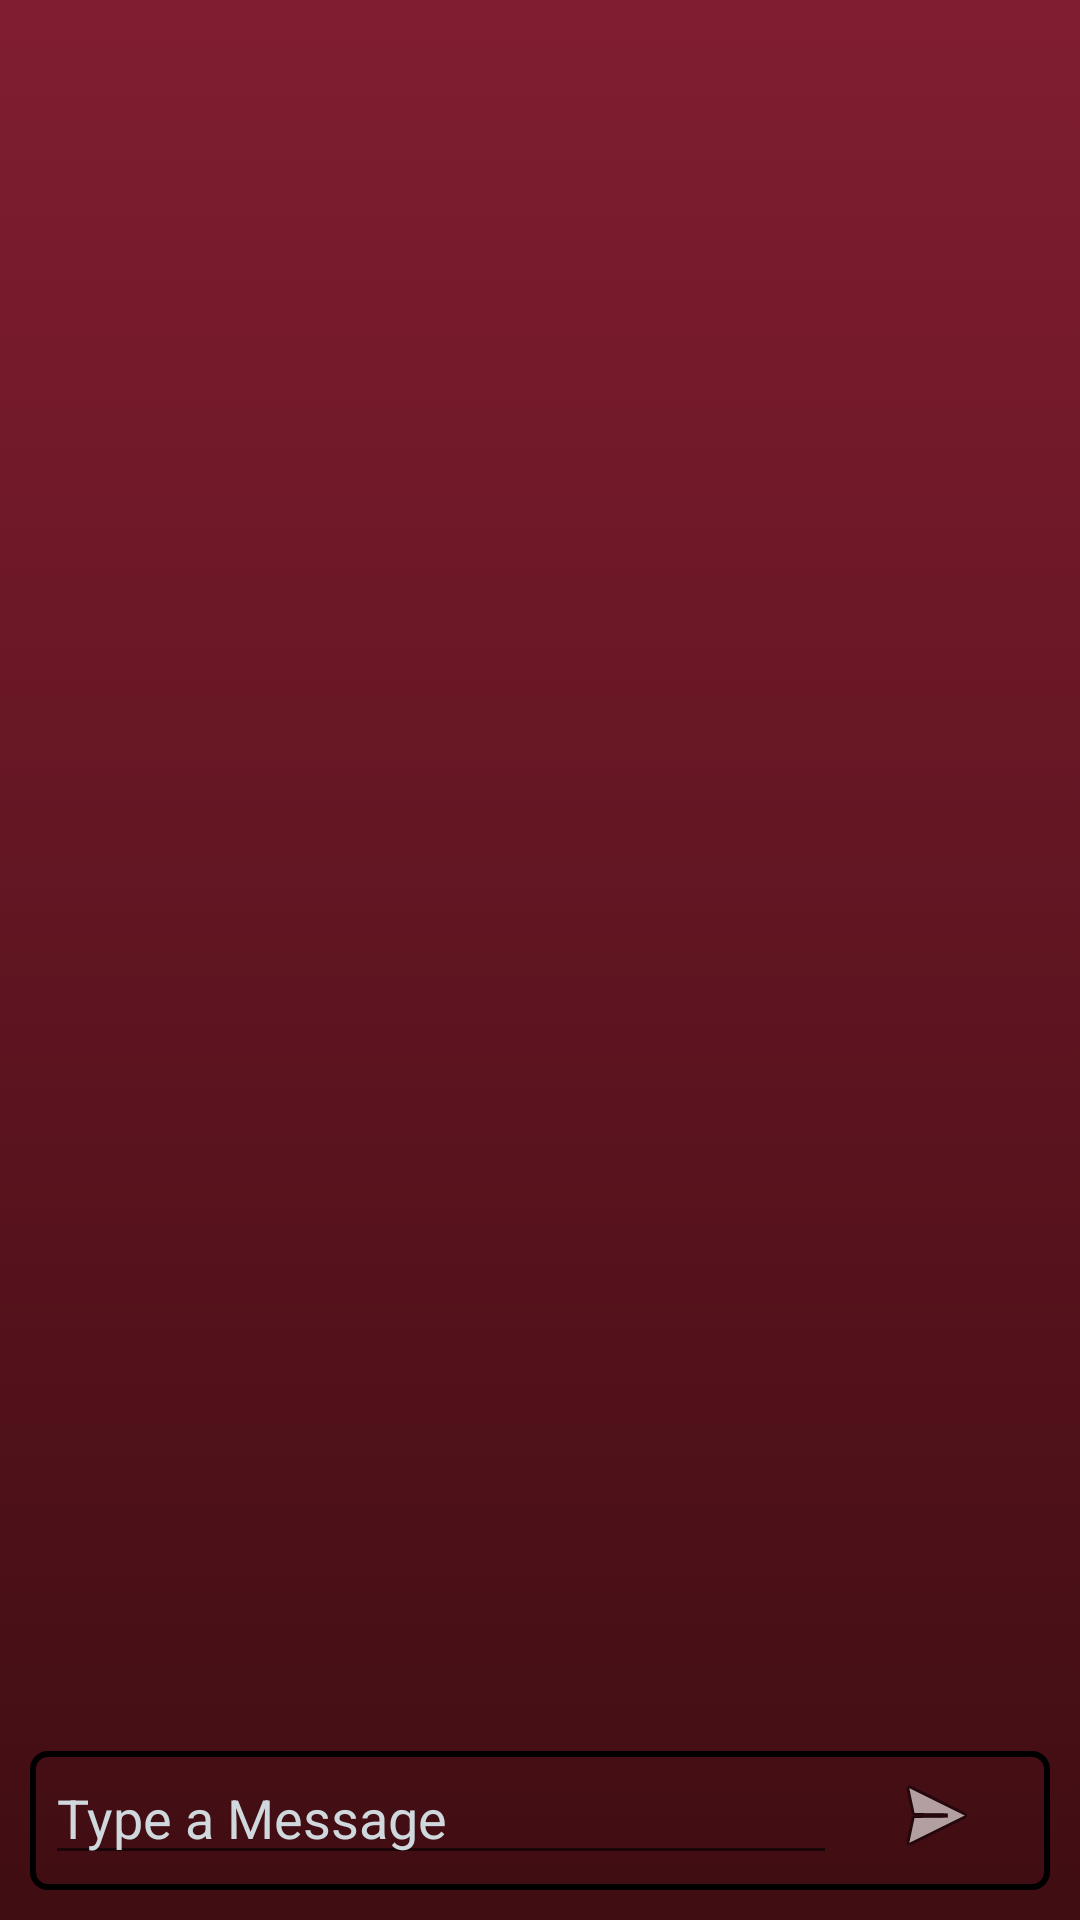

Where icons sit on this 1080 x 1920 app screen, as (x1, y1, x2, y2):
send: (907, 1786, 967, 1845)
